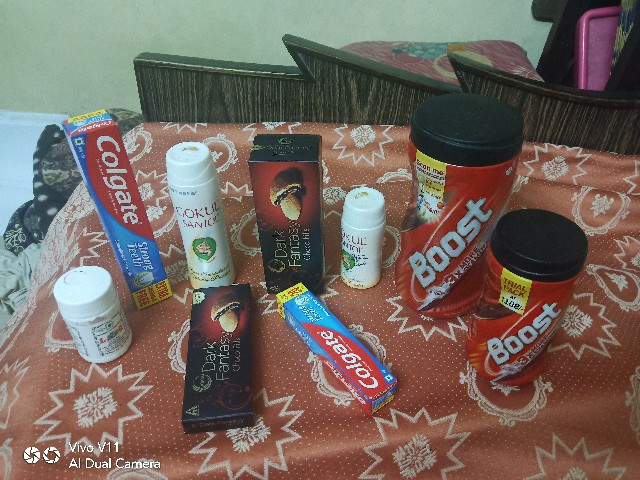boost big: (388, 71, 509, 320)
boost small: (461, 207, 591, 396)
colgatetoothpaste big: (52, 91, 168, 306)
colgatetoothpaste small: (271, 284, 409, 417)
darkfantasy big: (247, 105, 331, 294)
darkfantasy small: (173, 276, 253, 432)
gokulsantol big: (157, 123, 229, 286)
gokulsantol small: (338, 152, 387, 292)
lgasafoetidapowder small: (56, 253, 129, 380)
